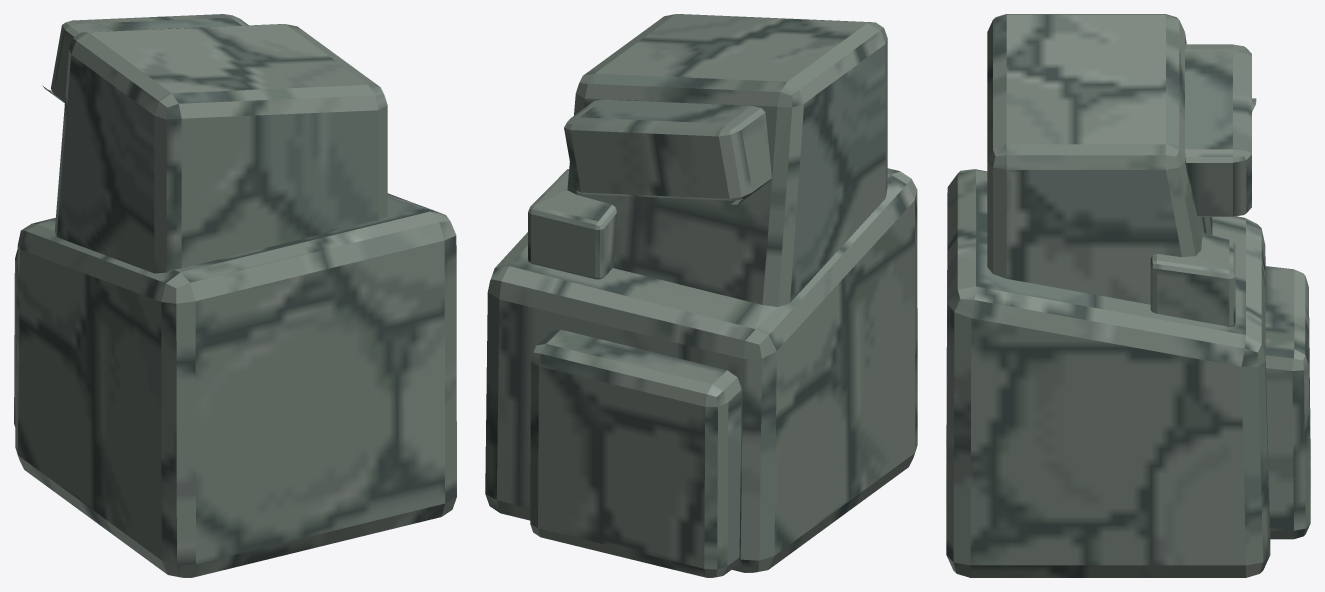
Rendered from rock1.fbx.
The picture shows the model from 3 angles, left to right: view 1: azimuth 30°, elevation 25°; view 2: azimuth 150°, elevation 25°; view 3: azimuth 270°, elevation 25°; orthographic projection. The views are drawn at different scales.
Visible parts, largest first — view 1: Cube.004; view 2: Cube.004; view 3: Cube.004.
Boxes of the visible parts, <box> form: Cube.004: <box>14,14,456,577</box>; Cube.004: <box>485,14,917,577</box>; Cube.004: <box>946,14,1310,577</box>.
Size of the model in its own units: 200 by 306 by 225.
